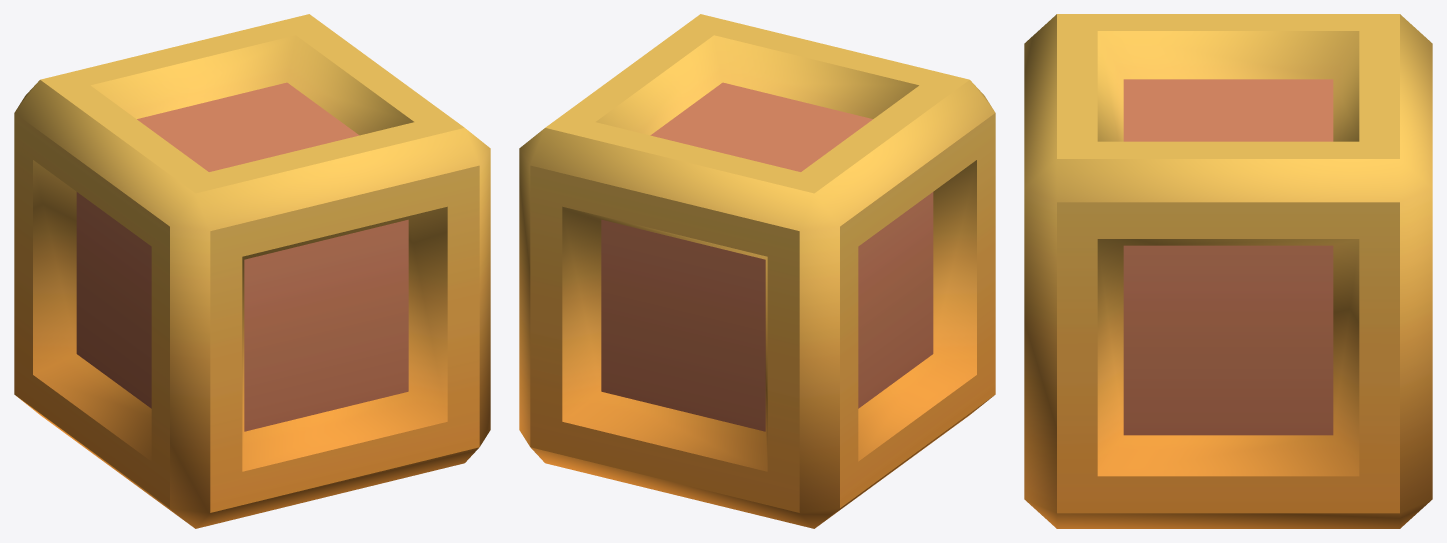
Rendered from kenney-platformer-crate-item.glb.
3 renders of one model, left to right at view 1: azimuth 30°, elevation 25°; view 2: azimuth 150°, elevation 25°; view 3: azimuth 270°, elevation 25°, orthographic. The views are drawn at different scales.
Visible parts, largest first — view 1: crate-item; view 2: crate-item; view 3: crate-item.
Part boxes in pixels (x1,y1,x2,y2): crate-item: [14, 14, 490, 528]; crate-item: [519, 14, 995, 528]; crate-item: [1024, 14, 1432, 528].
Size of the model in its own units: 0.5 by 0.5 by 0.5.
1 material, 1 textured.
